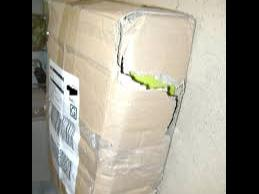damage_box: (44, 0, 195, 194)
